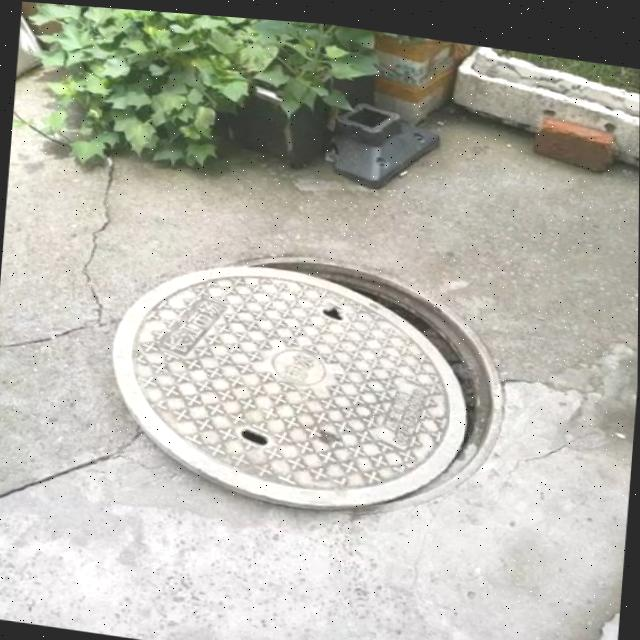manhole: (96, 226, 513, 531)
